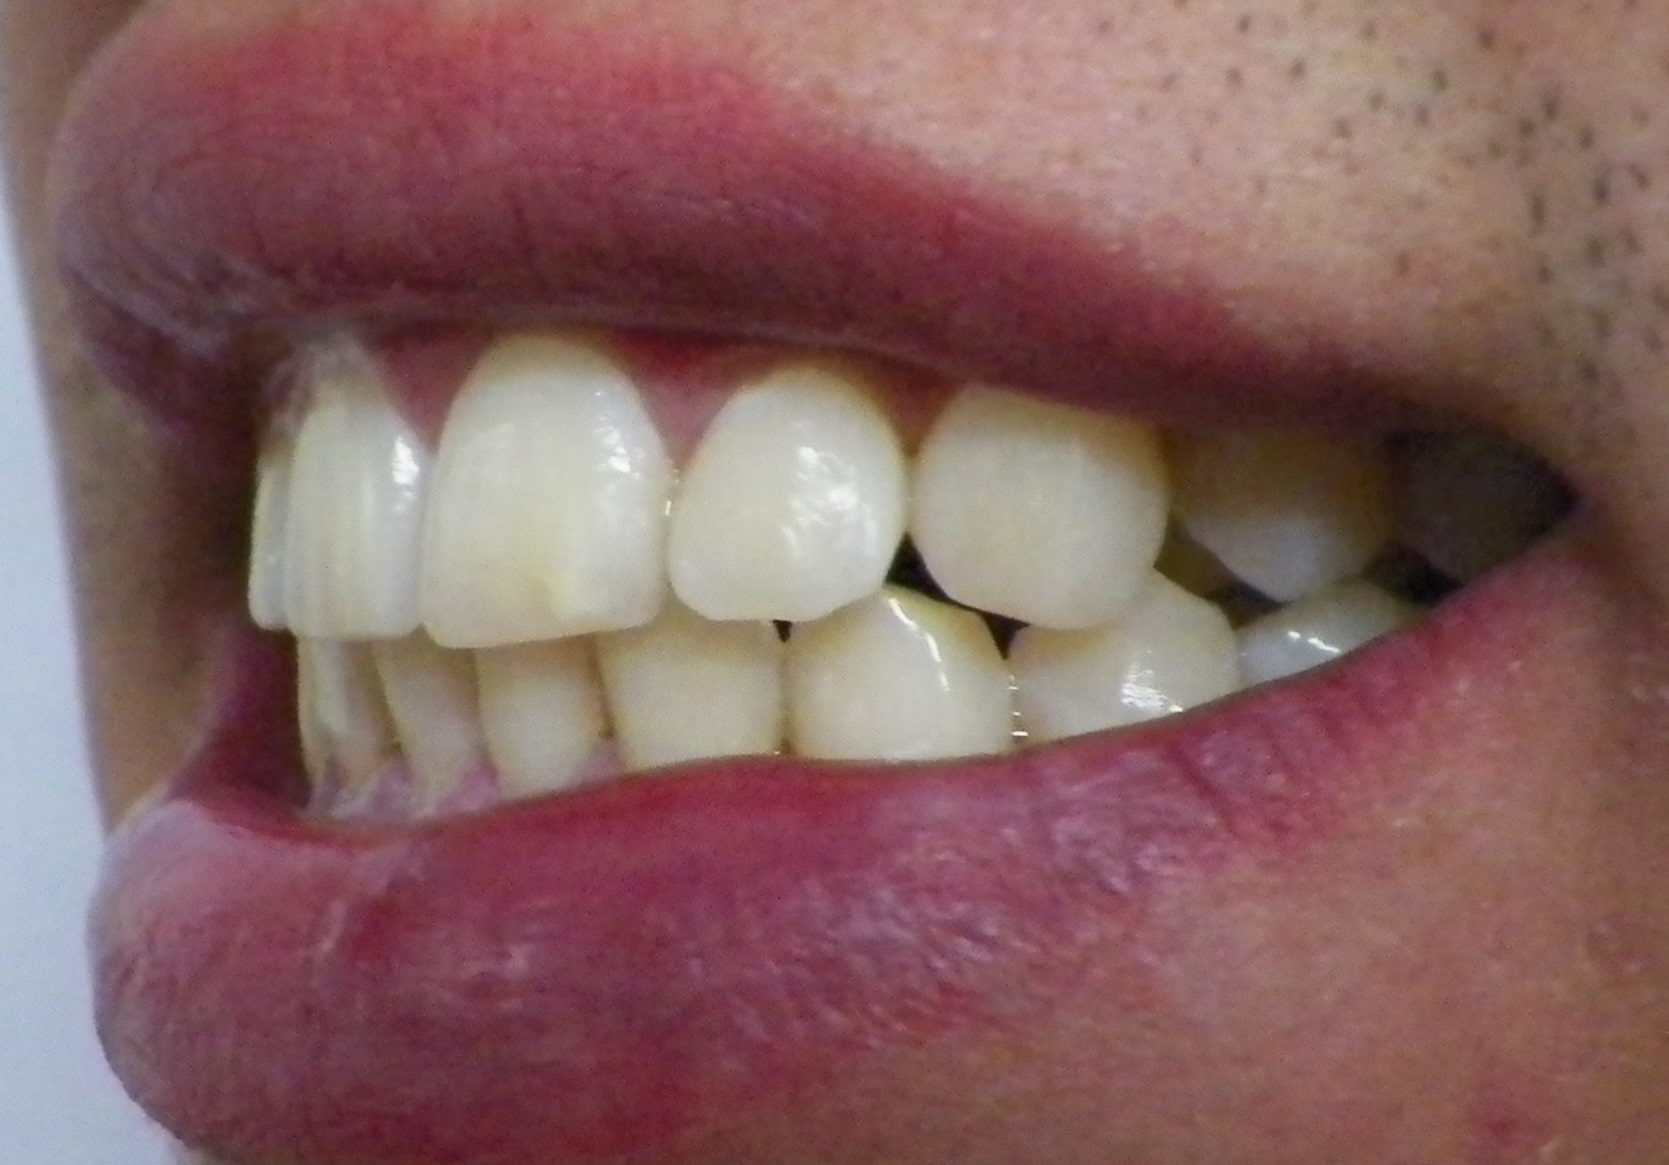boca: (208, 333, 1554, 797)
